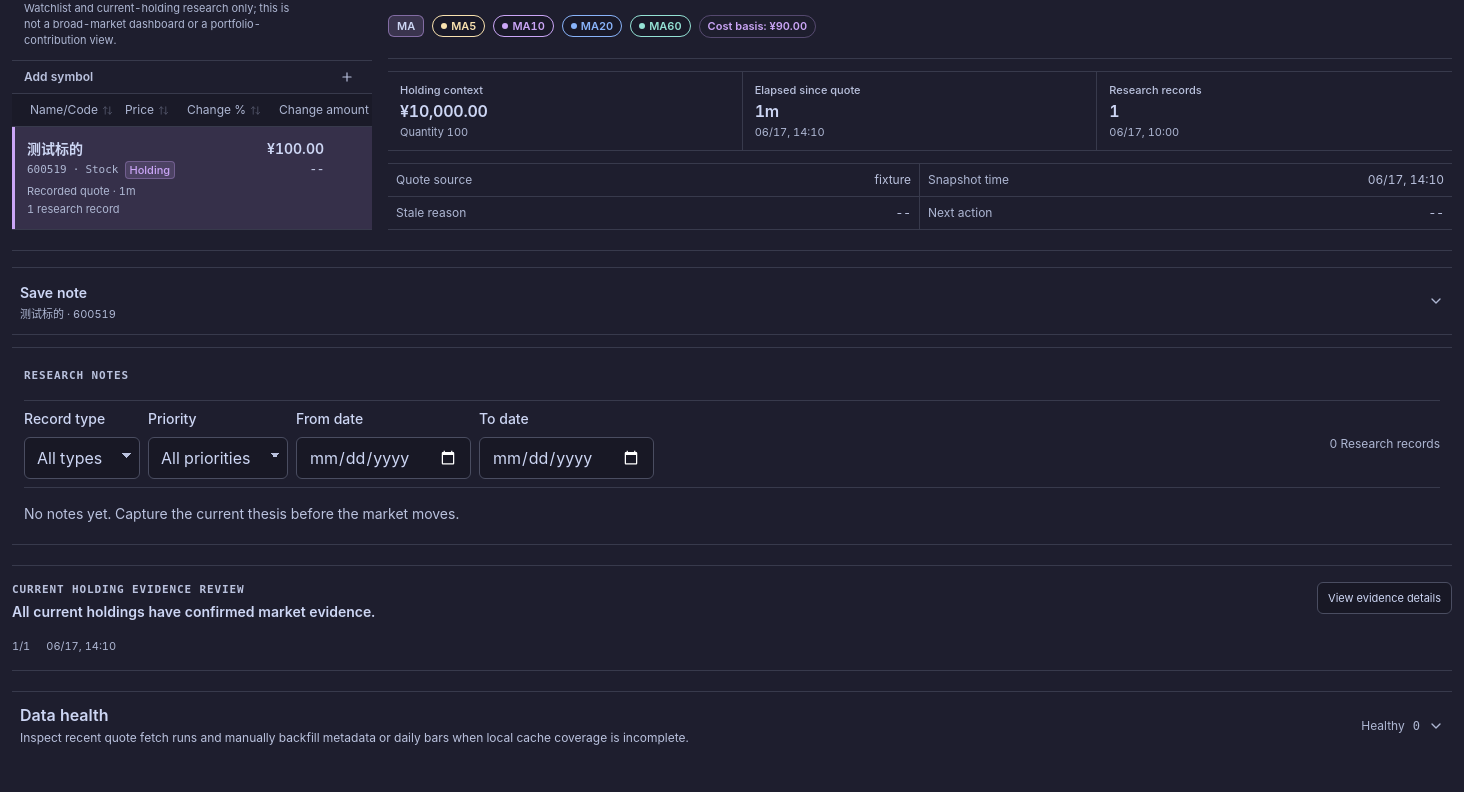
distinguishes daily-bar evidence read failures from no collection samples
(page scrolled)
Click the heading that starts with "Data health": click(64, 714) [20,704,1444,744]
(page scrolled)
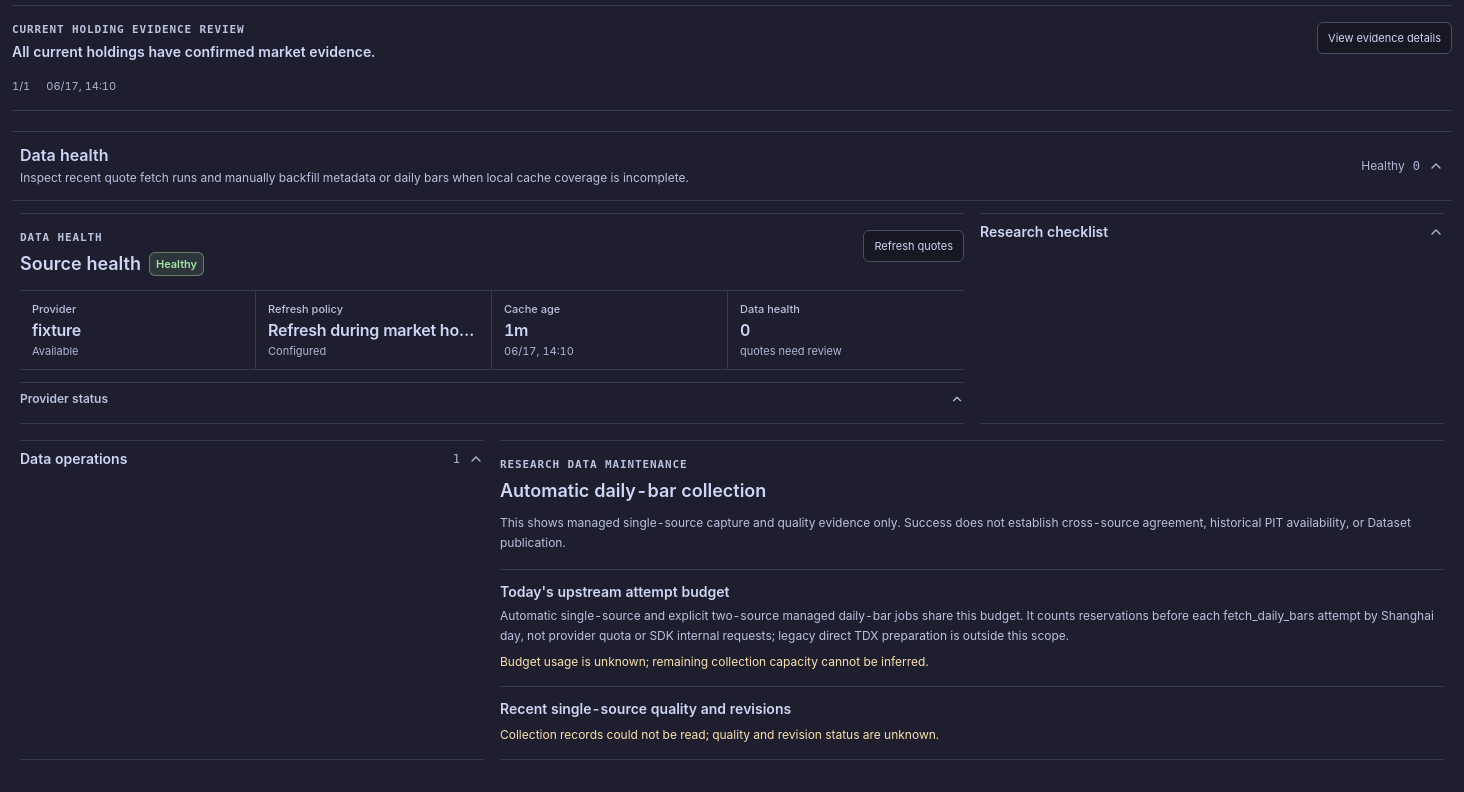
Expected: the text "Budget usage is unknown" is shown, [500,654,929,668]
Expected: the text "Collection records could not be read" is shown, [500,726,939,742]
